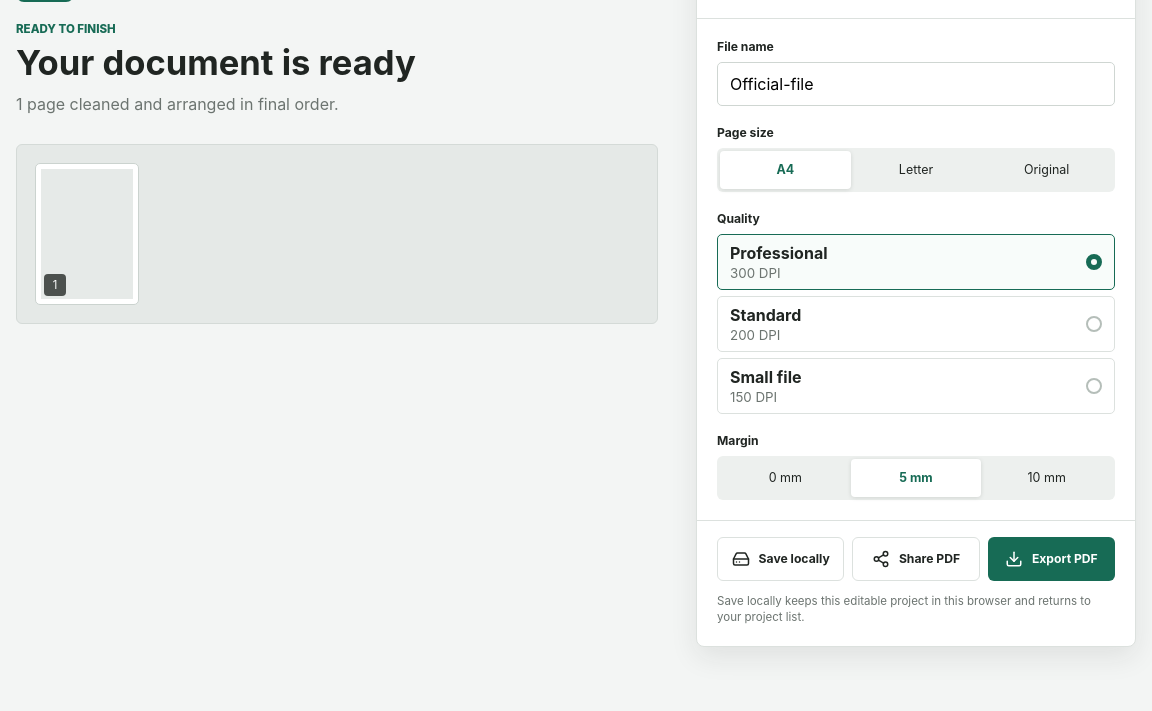
Test: completion page › exports and sends the PDF through native file sharing
The image size is (1152, 711).
(page scrolled)
Click the button "Share PDF".
click(916, 558)  # box [852,536,980,580]
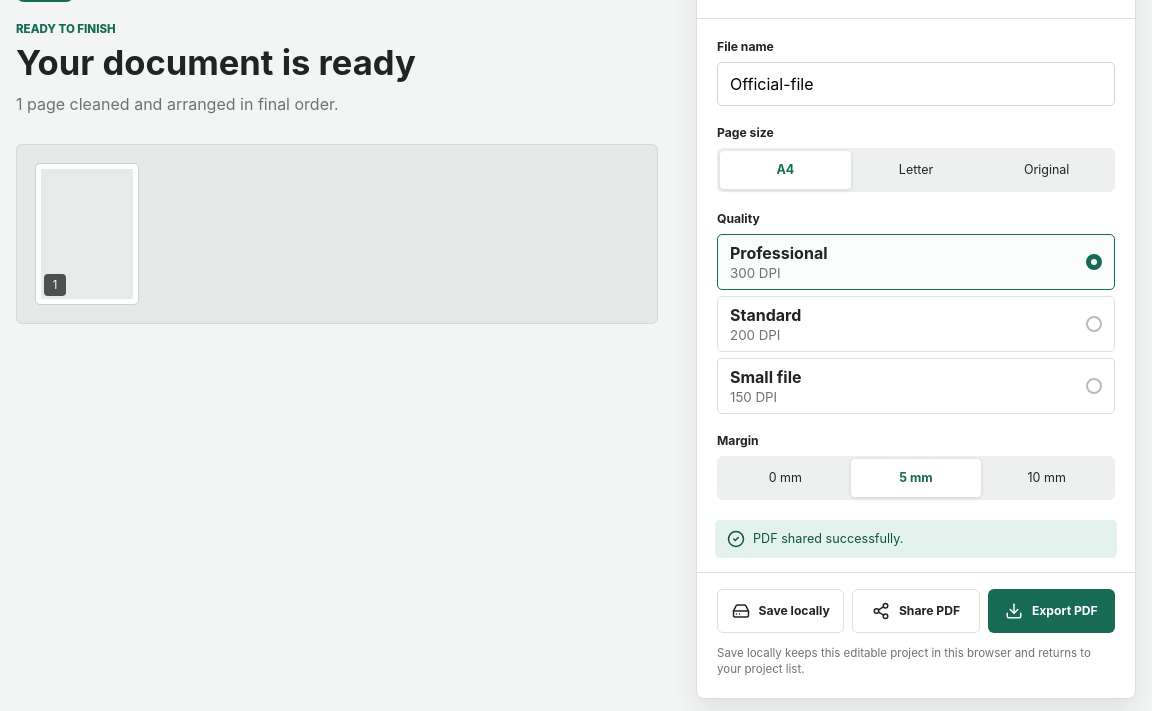
Expected: the text "PDF shared successfully." is shown, [715,520,1117,558]
